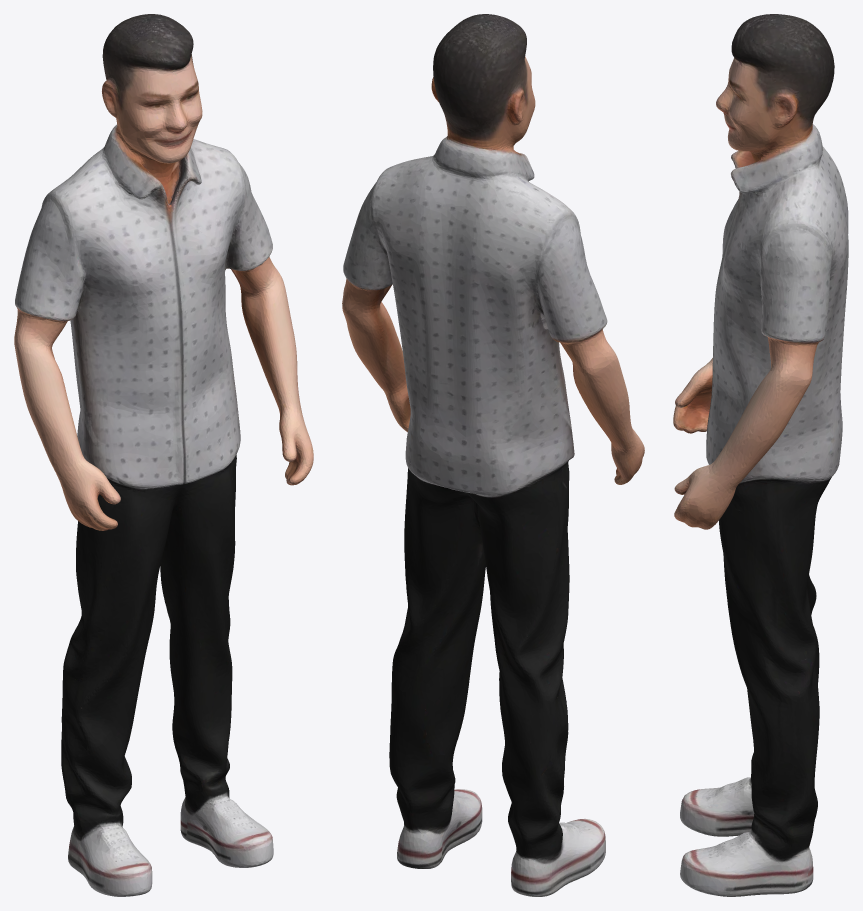
The model's file is toy.glb.
The picture shows the model from 3 angles, left to right: view 1: azimuth 30°, elevation 25°; view 2: azimuth 150°, elevation 25°; view 3: azimuth 270°, elevation 25°; orthographic projection.
Parts seen in each view (by area): view 1: temp_mesh.ply; view 2: temp_mesh.ply; view 3: temp_mesh.ply.
Part boxes in pixels (x1=…): temp_mesh.ply: x1=14, y1=14, x2=313, y2=896; temp_mesh.ply: x1=342, y1=14, x2=644, y2=896; temp_mesh.ply: x1=673, y1=14, x2=848, y2=896.
Size of the model in its own units: 0.6627 by 1.99 by 0.3774.
1 material, 1 textured.
